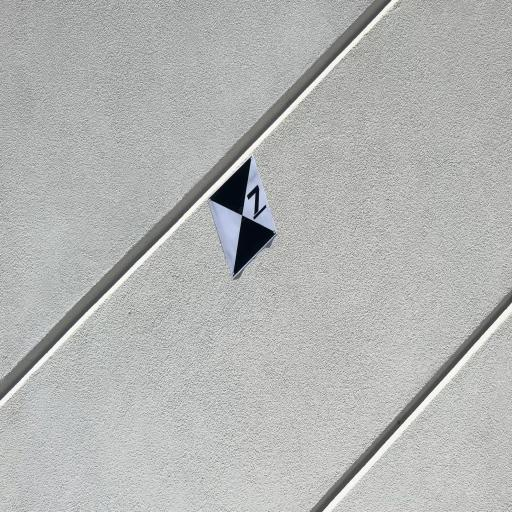target7: (207, 153, 279, 279)
